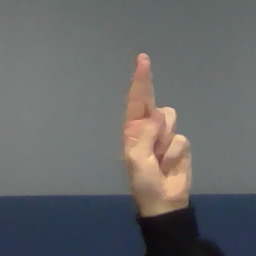R: (121, 50, 196, 199)
